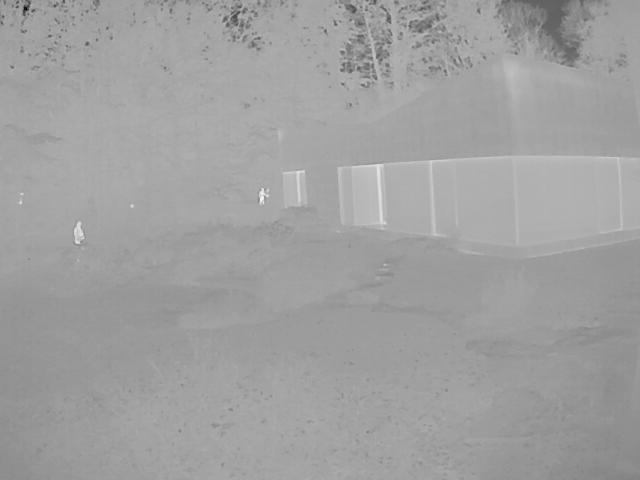person: (73, 221, 86, 246), (258, 188, 272, 203)
